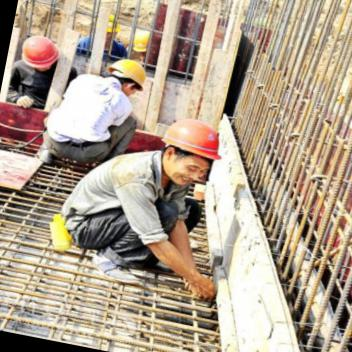helmet: (160, 116, 223, 162), (106, 58, 149, 95), (21, 35, 62, 70)
